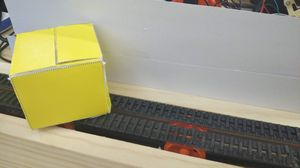box4: (6, 20, 112, 130)
